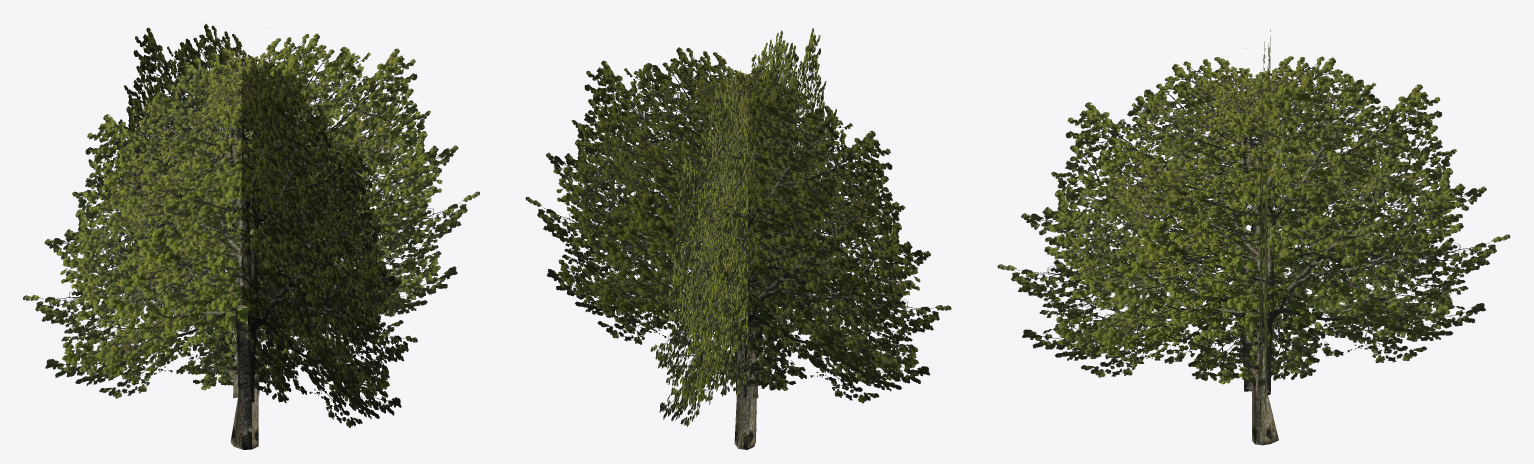
File: SM_Tree_Leaves_00.fbx
3 views of the same model, side by side, from view 1: azimuth 30°, elevation 25°; view 2: azimuth 150°, elevation 25°; view 3: azimuth 270°, elevation 25° (orthographic). The views are drawn at different scales.
Visible parts, largest first — view 1: SM_Tree_Leaves_00.001, SM_Tree_Leaves_00; view 2: SM_Tree_Leaves_00.001, SM_Tree_Leaves_00; view 3: SM_Tree_Leaves_00.001, SM_Tree_Leaves_00.
Boxes of the visible parts, box(x1,y1,x2,y2) form: SM_Tree_Leaves_00.001: box(23, 24, 479, 427); SM_Tree_Leaves_00: box(230, 304, 258, 449); SM_Tree_Leaves_00.001: box(525, 28, 951, 426); SM_Tree_Leaves_00: box(734, 312, 758, 449); SM_Tree_Leaves_00.001: box(997, 29, 1510, 432); SM_Tree_Leaves_00: box(1252, 309, 1278, 445).
Bounding box in the file's own units: 1377 × 1157 × 1408.
